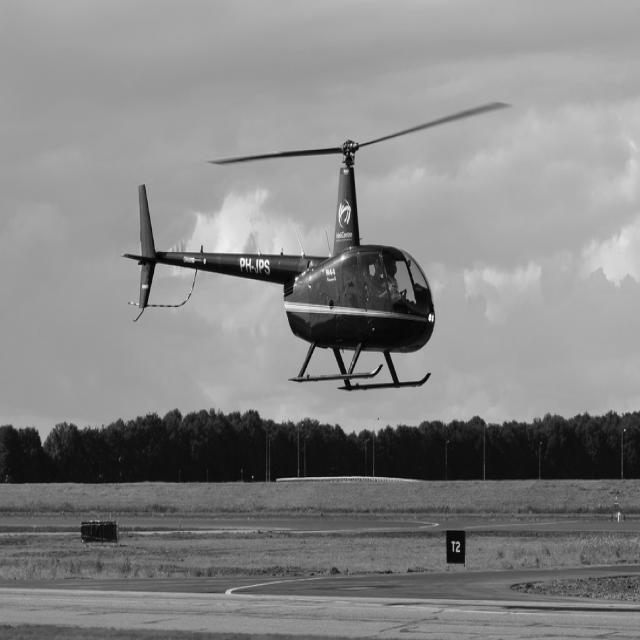helicopter: (121, 91, 520, 397)
